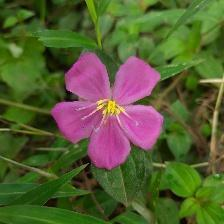malabar melastome: (54, 51, 169, 175)
